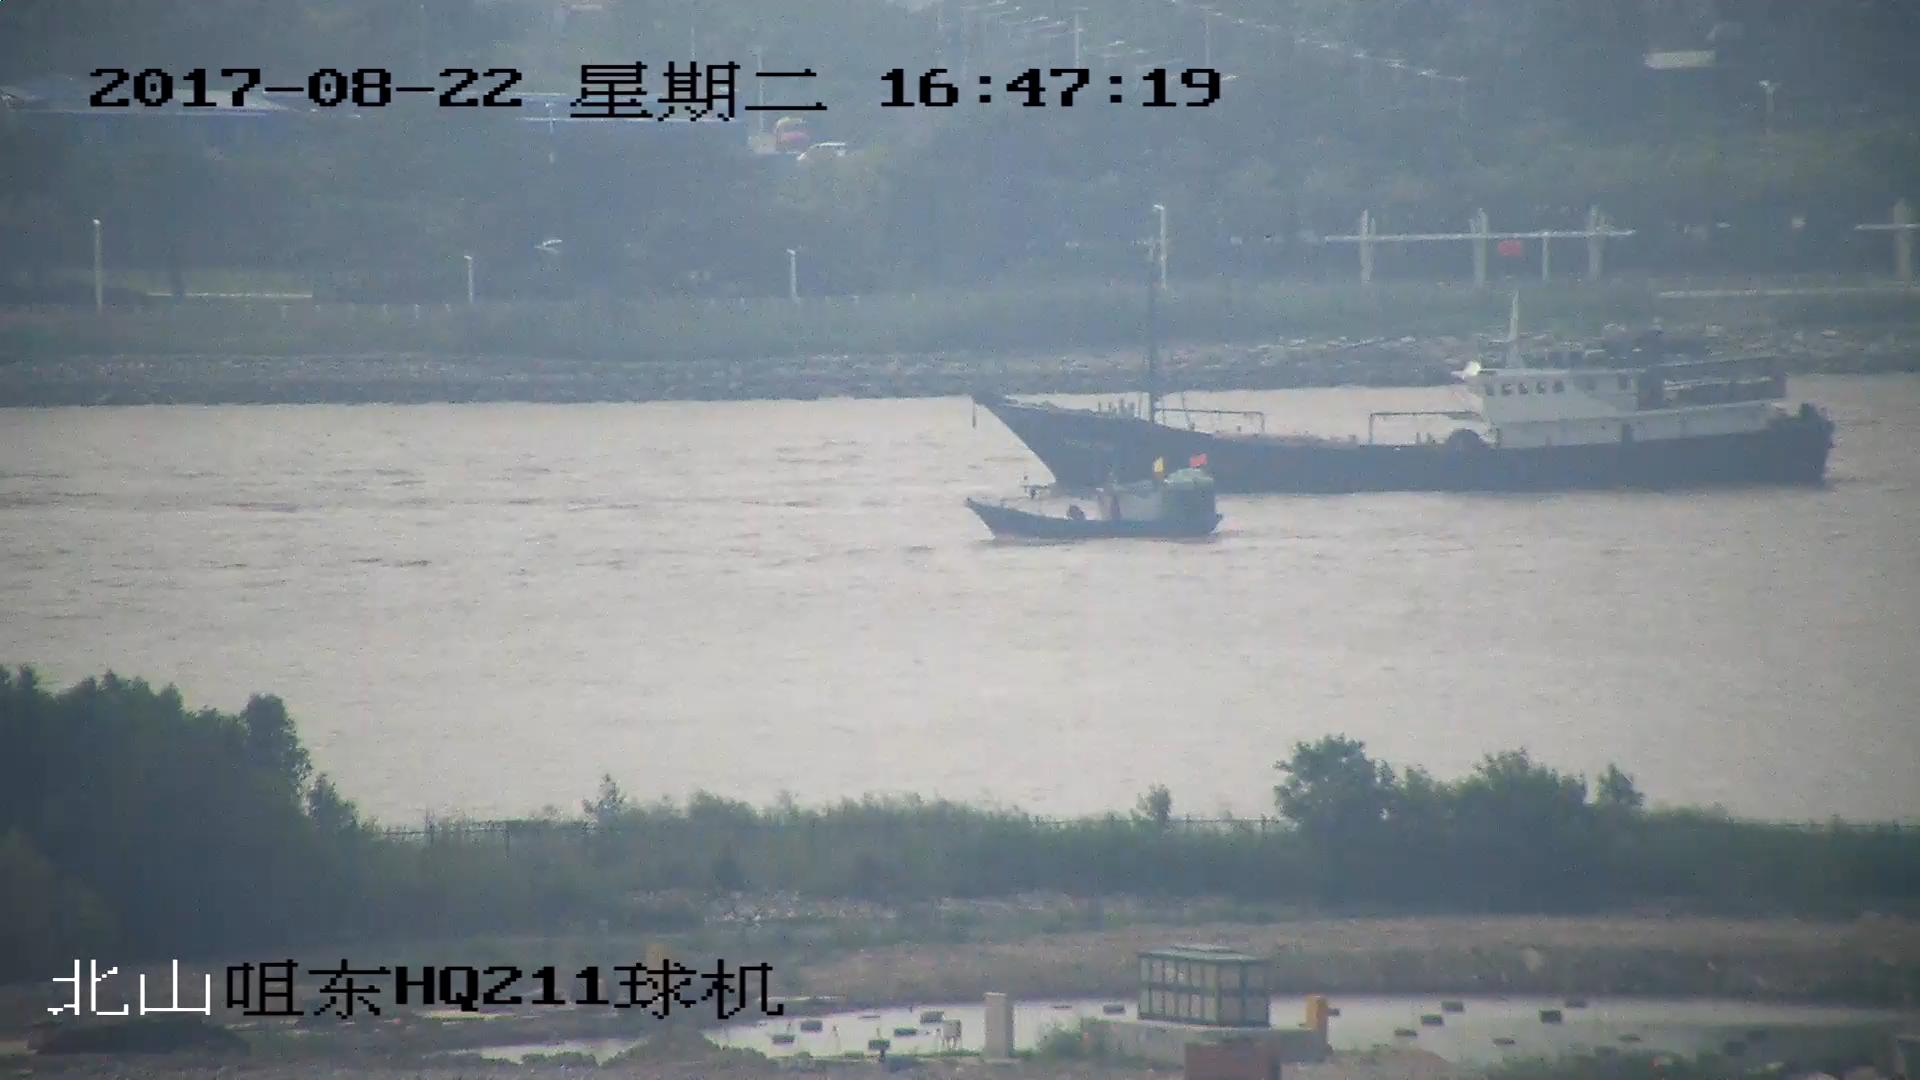fishing boat: (972, 210, 1833, 488), (968, 454, 1218, 542)
